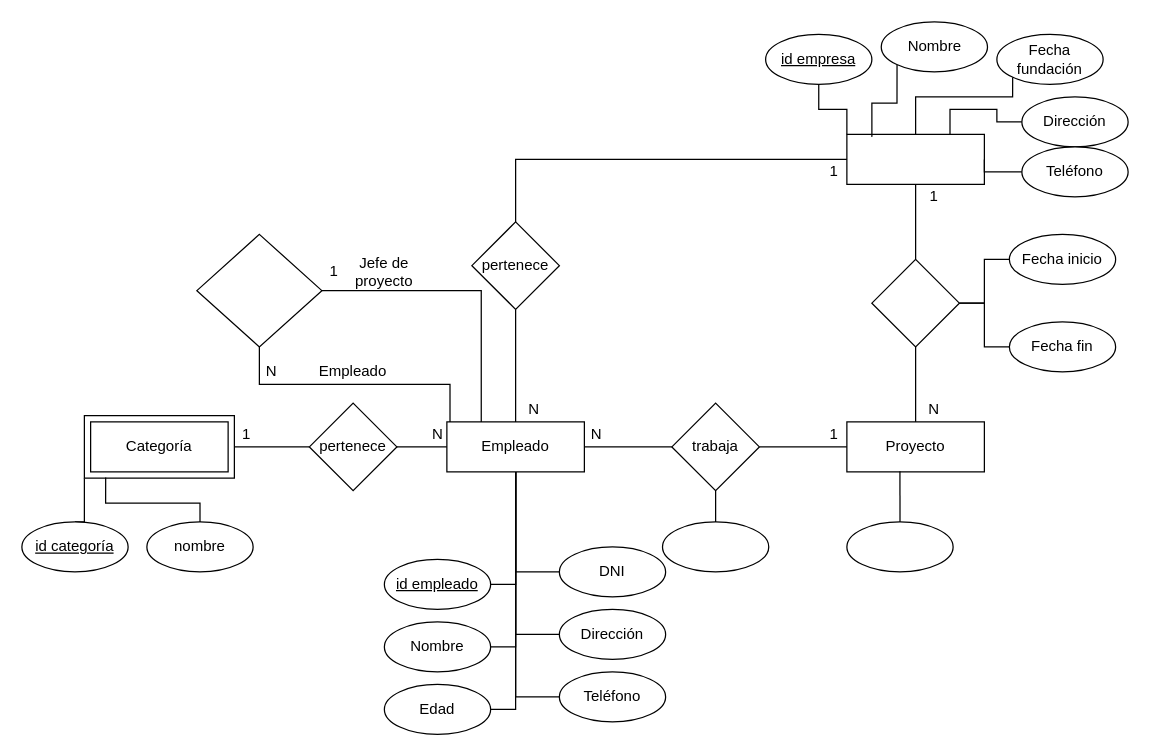
This 1150x756 diagram has some shape labels left out. Here are the shapes that lost their labels. From the top down, the centre of each, then its label:
[915,158]: Empresa
[259,290]: supervisa
[915,302]: realiza
[715,546]: Horas trabajadas
[899,546]: id proyecto
